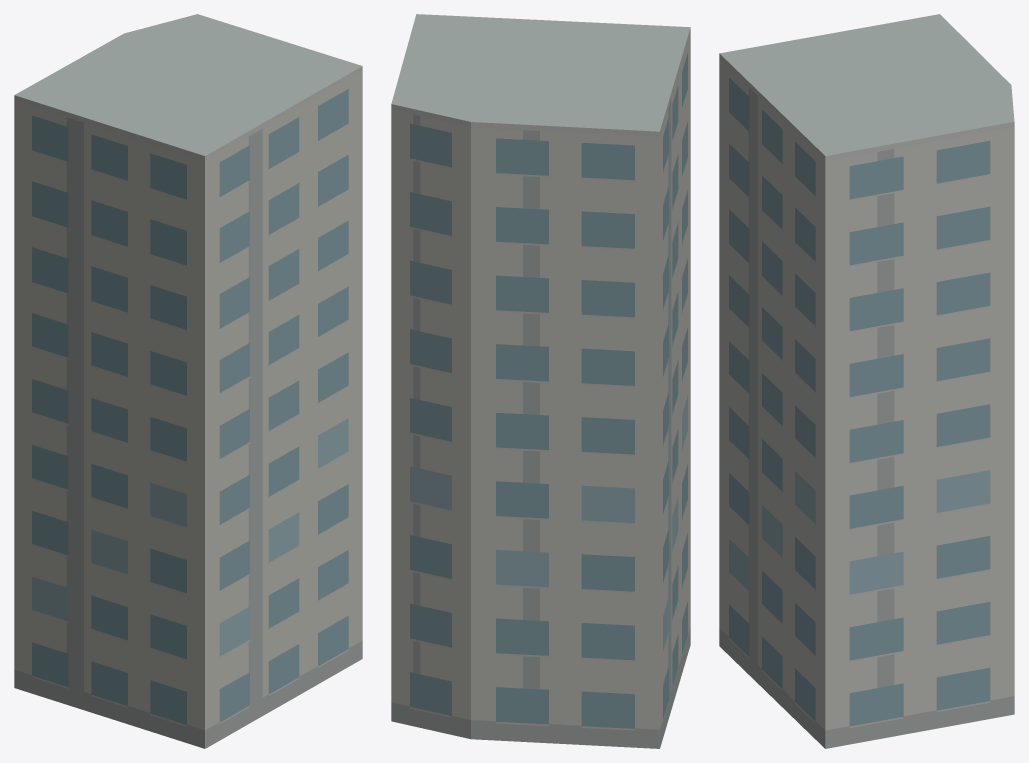
File: survey-upis-32641820.glb
3 views of the same model, side by side, from view 1: azimuth 30°, elevation 25°; view 2: azimuth 150°, elevation 25°; view 3: azimuth 270°, elevation 25° (orthographic). The views are drawn at different scales.
Visible parts, largest first — view 1: survey-upis-32641820.tmp; view 2: survey-upis-32641820.tmp; view 3: survey-upis-32641820.tmp.
Part boxes in pixels (box(x1,y1,x2,y2)): survey-upis-32641820.tmp: box(14, 14, 362, 748); survey-upis-32641820.tmp: box(391, 14, 690, 748); survey-upis-32641820.tmp: box(719, 14, 1014, 748).
Bounding box in the file's own units: 14.12 × 27.45 × 12.39.
